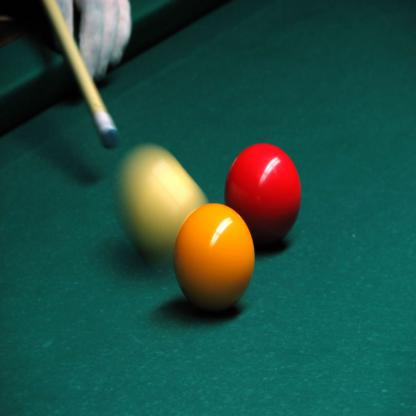Ball: (171, 203, 256, 313), (223, 141, 302, 249)
